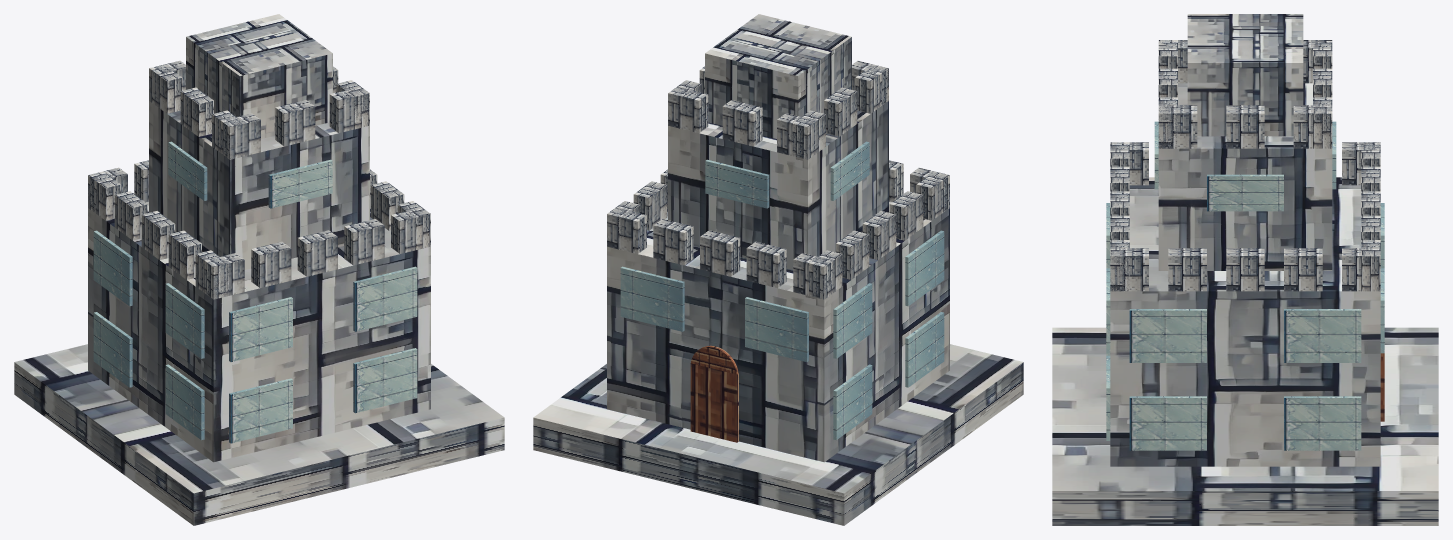
File: MainTower.fbx
The picture shows the model from 3 angles, left to right: view 1: azimuth 30°, elevation 25°; view 2: azimuth 150°, elevation 25°; view 3: azimuth 270°, elevation 25°; orthographic projection. The views are drawn at different scales.
Parts seen in each view (by area): view 1: Cone.002, Cone.001, Cone.003, Cone.006, Cone.041, Cone.058, Cone.057, Cone.042, Cone.050, Cone.045, Cone.046, Cone.054 (+18 smaller); view 2: Cone.002, Cone.001, Cone.003, Cone.006, Cone.048, Cone.040, Cone.039, Cone.049, Cone.045, Cone.046, Cone.053, Cone.054 (+17 smaller); view 3: Cone.001, Cone.002, Cone.003, Cone.006, Cone.055, Cone.056, Cone.043, Cone.044, Cone.051, Cone.032, Cone.034, Cone.011 (+17 smaller).
Part boxes in pixels (x1,y1,x2,y2): Cone.002: (88,201,430,462); Cone.001: (14,344,504,525); Cone.003: (149,101,369,269); Cone.006: (186,14,332,138); Cone.041: (353,266,417,331); Cone.058: (353,348,417,413); Cone.057: (229,378,292,443); Cone.042: (229,297,292,361); Cone.050: (268,159,332,208); Cone.045: (165,283,204,358); Cone.046: (93,230,132,306); Cone.054: (165,364,204,440); Cone.002: (607,201,949,462); Cone.001: (533,344,1023,525); Cone.003: (668,101,888,269); Cone.006: (705,14,851,138); Cone.048: (690,345,738,442); Cone.040: (620,266,684,331); Cone.039: (745,297,808,361); Cone.049: (705,159,769,208); Cone.045: (905,230,944,306); Cone.046: (833,283,872,358); Cone.053: (833,364,872,440); Cone.054: (905,312,944,387); Cone.001: (1052,327,1438,525); Cone.002: (1110,177,1380,466); Cone.003: (1158,83,1332,270); Cone.006: (1187,14,1303,136); Cone.055: (1129,396,1206,450); Cone.056: (1284,396,1361,450); Cone.043: (1284,309,1361,362); Cone.044: (1129,309,1206,362); Cone.051: (1207,174,1283,211); Cone.032: (1293,97,1332,148); Cone.034: (1158,97,1197,148); Cone.011: (1110,240,1148,291).
Bounding box in the file's own units: 2000 × 2319 × 2000.
Materials: 5 (5 with a texture image).
